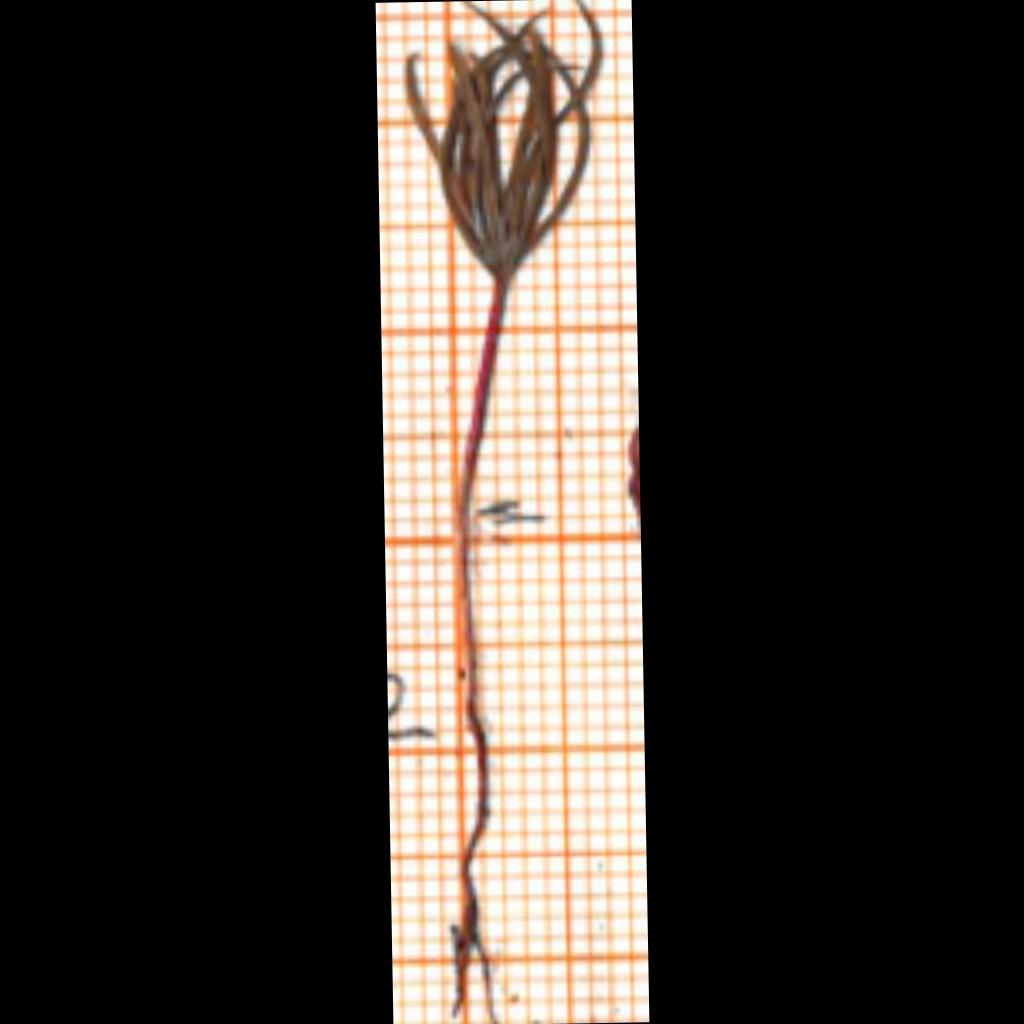flowerPinus: (407, 0, 599, 279)
rootPinus: (456, 521, 493, 1017)
stemPinus: (459, 280, 507, 524)
